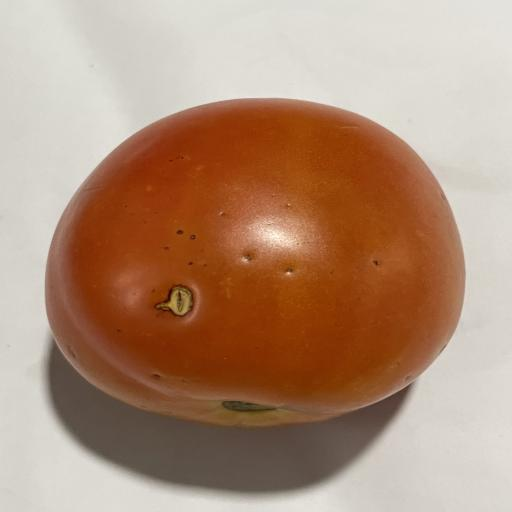unripe: (46, 99, 465, 427)
